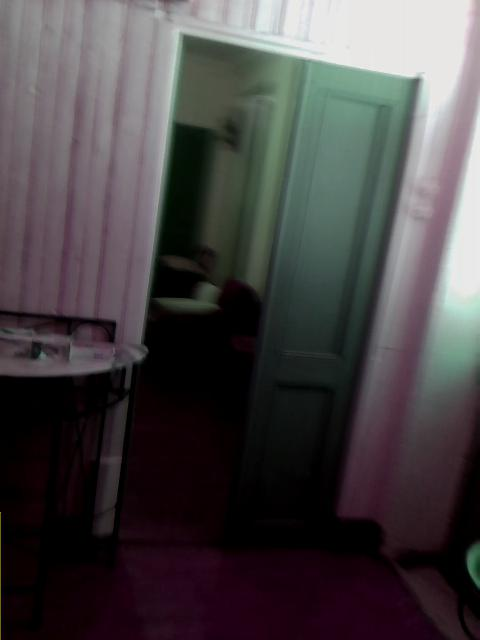open_door: (112, 19, 309, 547)
